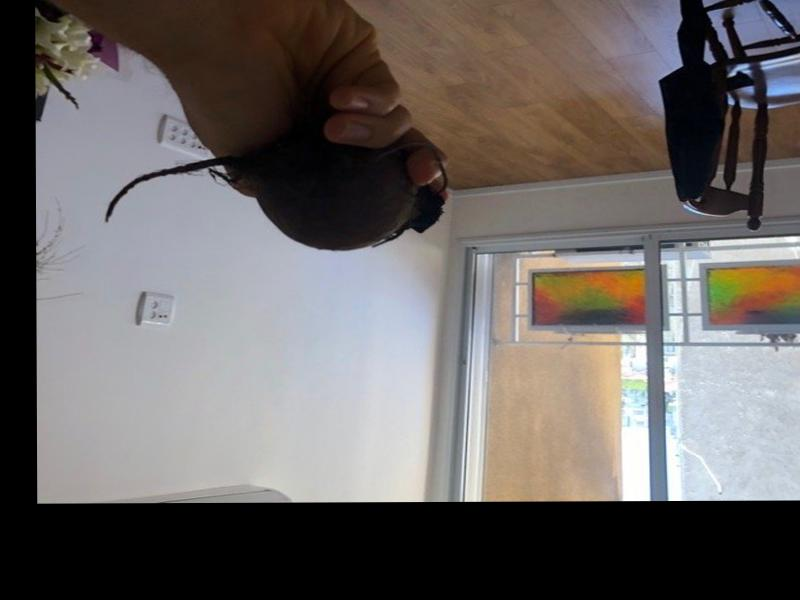Beet: (107, 136, 450, 250)
